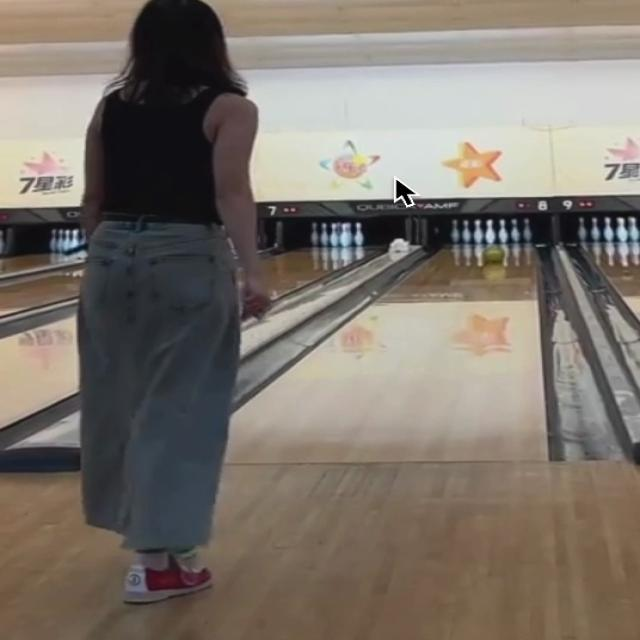alley: (229, 245, 546, 463)
balls: (484, 245, 503, 266)
bottle: (451, 218, 531, 247)
